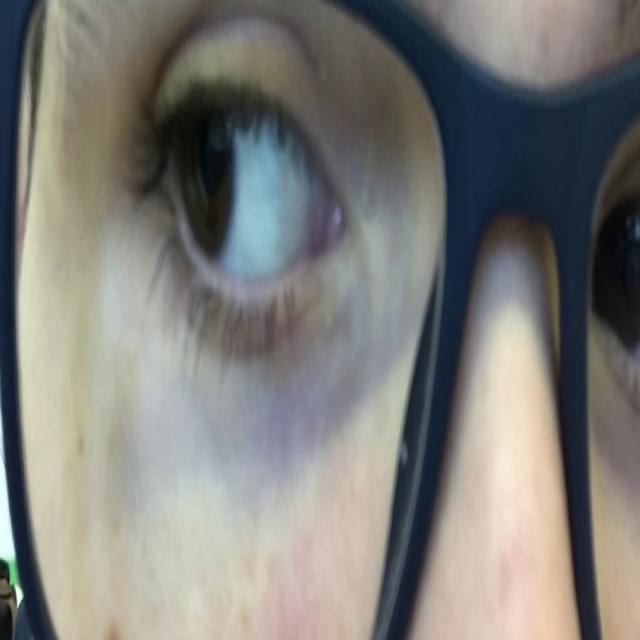eye: (126, 39, 362, 367)
gaze: (168, 81, 239, 267)
